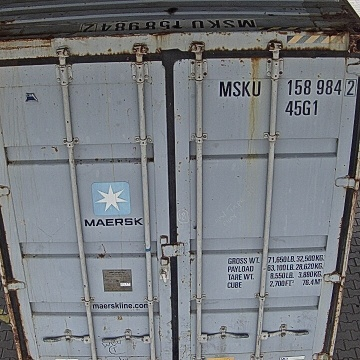serial_id: (220, 79, 356, 96)
